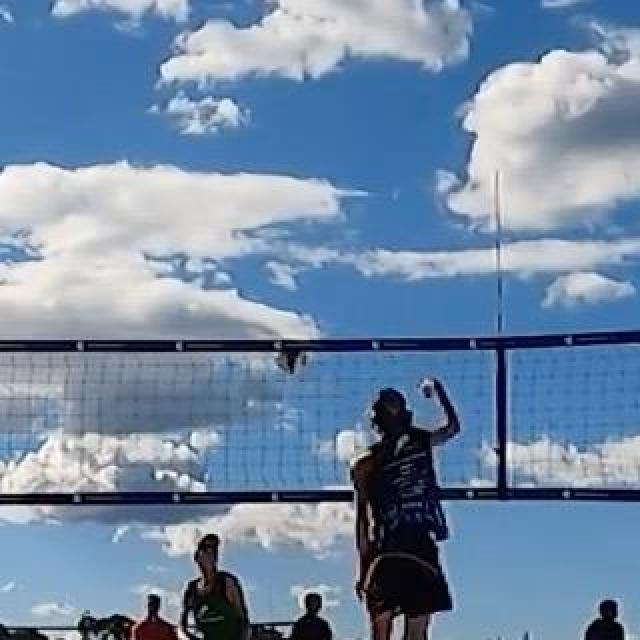volleyball: (272, 340, 310, 374)
